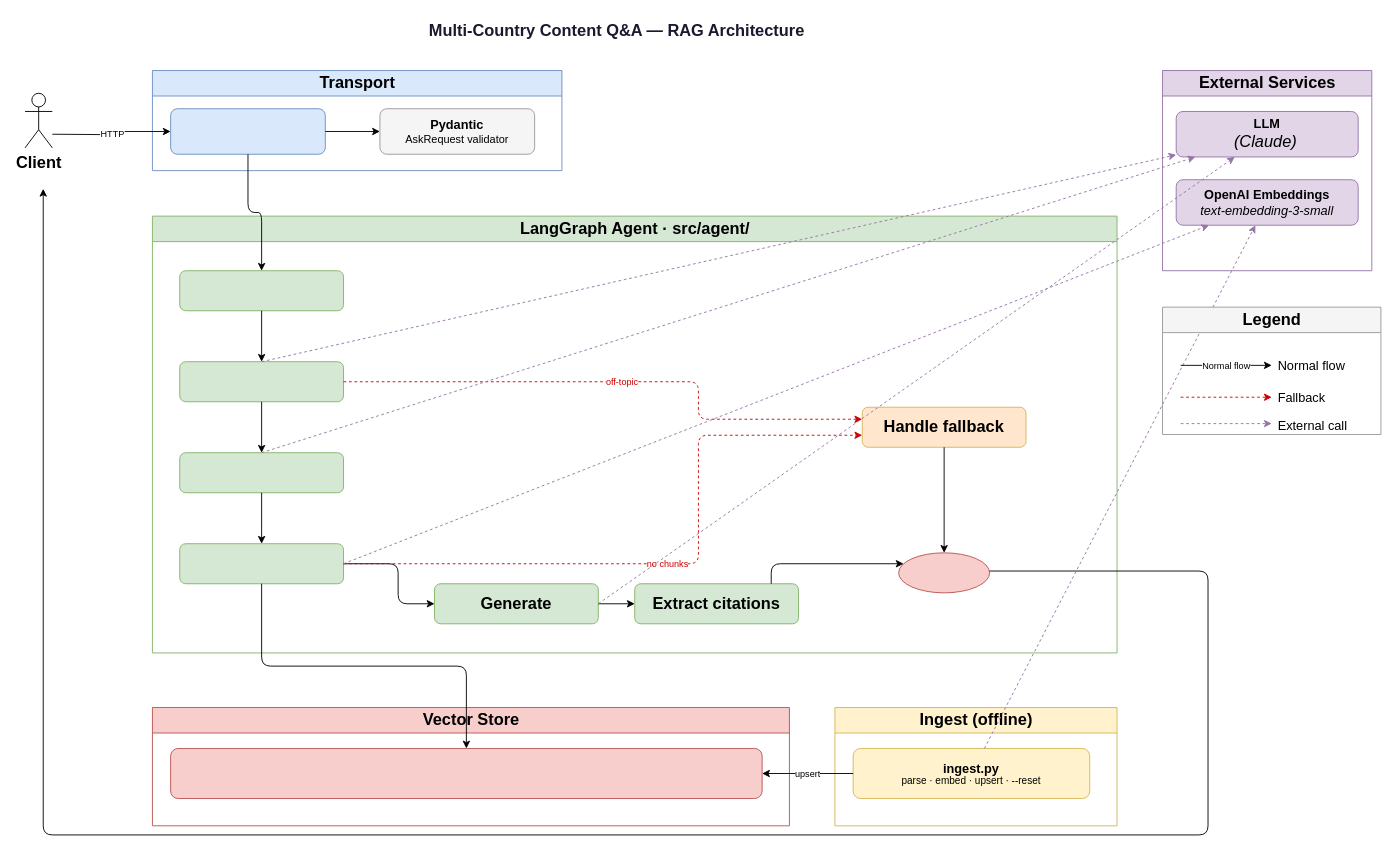
Image size: 1397x858. Some labels were removed from this diagram. Here are the shapes that lost their labels. From the top down, the centre of each, then its label:
At point (247, 131): "FastAPI /ask endpoint".
At point (261, 290): "Validate request".
At point (261, 381): "Topic guard".
At point (261, 472): "Generate query".
At point (261, 563): "Retrieve".
At point (944, 572): "END".
At point (466, 773): "ChromaDB (with cosine ANN)".
